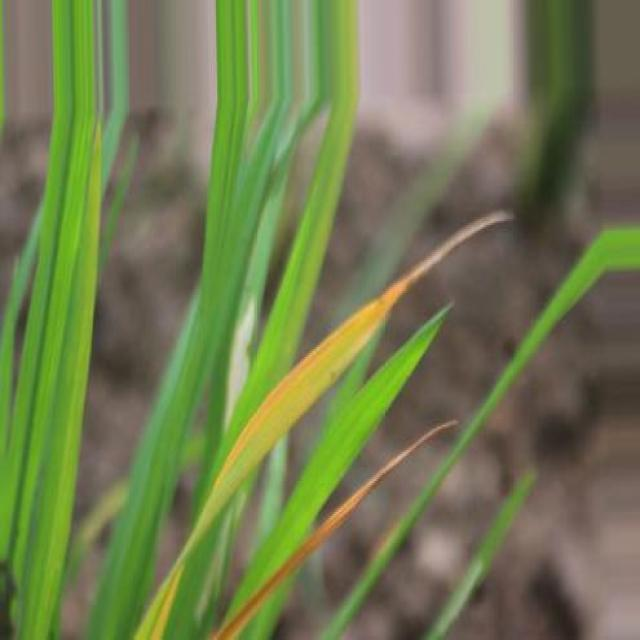Rice Tungro: (135, 212, 510, 639), (212, 423, 459, 638)
